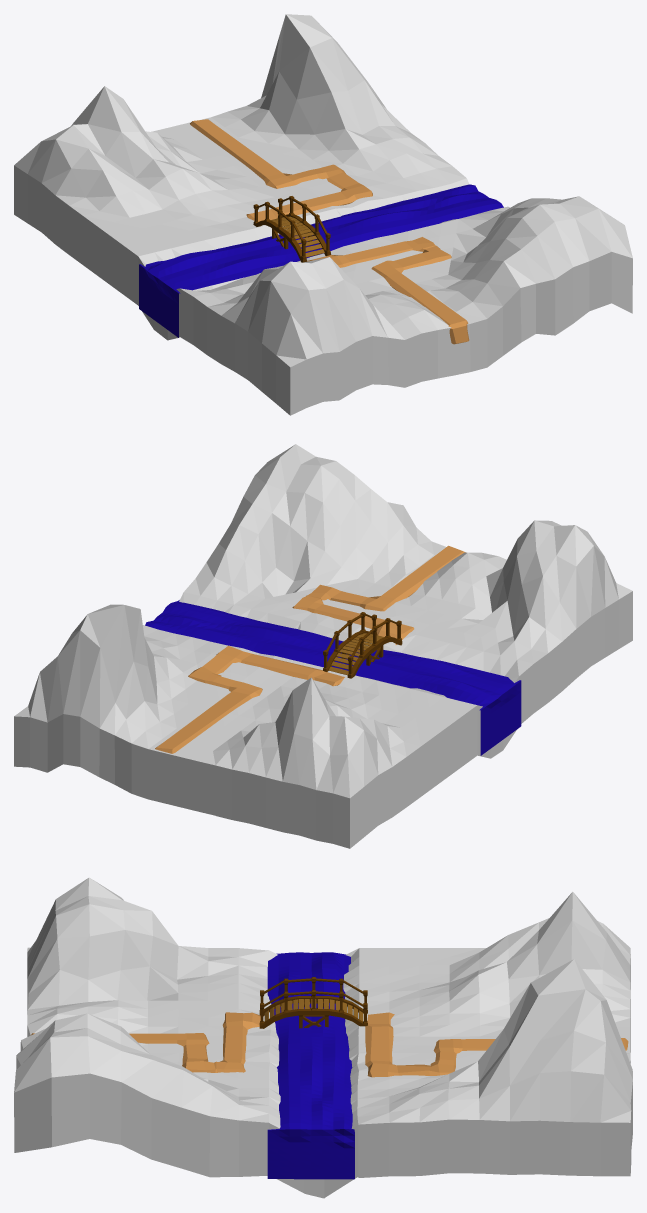
The model's file is map_3.glb.
The picture shows the model from 3 angles, top to bottom: view 1: azimuth 30°, elevation 25°; view 2: azimuth 150°, elevation 25°; view 3: azimuth 270°, elevation 25°; orthographic projection. The views are drawn at different scales.
Parts seen in each view (by area): view 1: Plane, Plane.001, Cube.018, Cube.001; view 2: Plane, Plane.001, Cube.018, Cube.001; view 3: Plane, Plane.001, Cube.018, Cube.001.
Boxes of the visible parts, x1=… form: Plane: x1=14, y1=14, x2=632, y2=415; Plane.001: x1=139, y1=184, x2=503, y2=337; Cube.018: x1=190, y1=119, x2=469, y2=344; Cube.001: x1=253, y1=196, x2=331, y2=262; Plane: x1=14, y1=444, x2=632, y2=848; Plane.001: x1=145, y1=600, x2=521, y2=755; Cube.018: x1=155, y1=545, x2=465, y2=753; Cube.001: x1=323, y1=612, x2=402, y2=678; Plane: x1=14, y1=877, x2=632, y2=1198; Plane.001: x1=267, y1=952, x2=354, y2=1179; Cube.018: x1=30, y1=1012, x2=628, y2=1077; Cube.001: x1=259, y1=977, x2=367, y2=1028.
Bounding box in the file's own units: 18.16 × 8.94 × 25.47.
